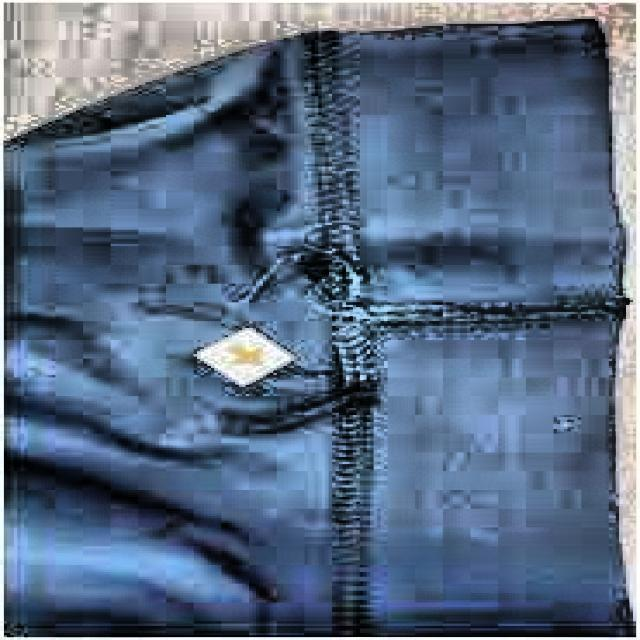gray stitch: (276, 216, 397, 338), (311, 376, 416, 471)
